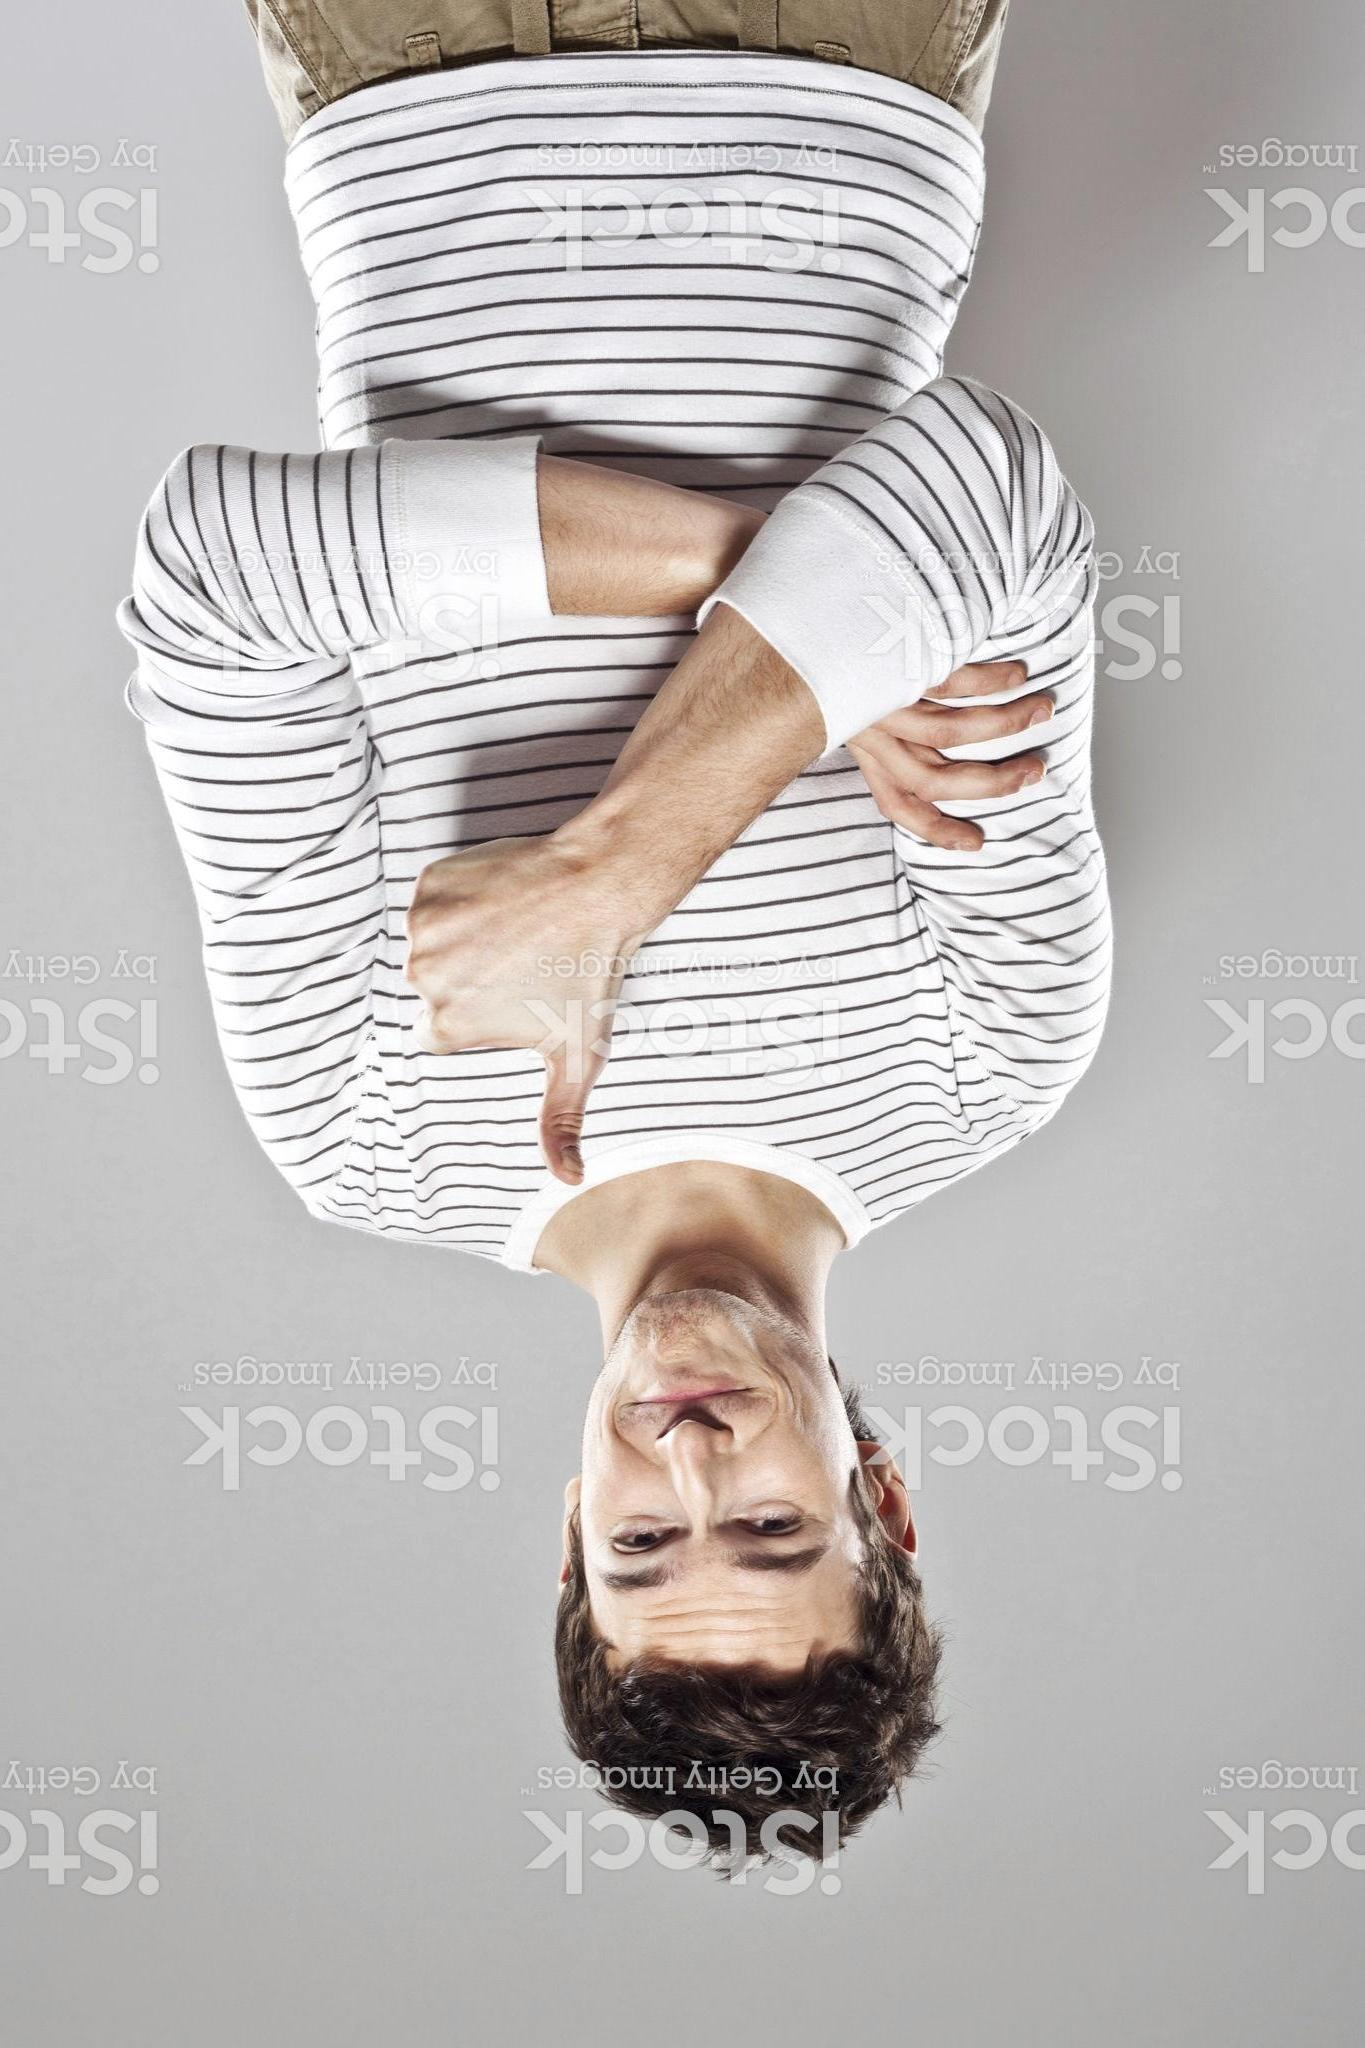thumbsdown: (401, 854, 591, 1186)
